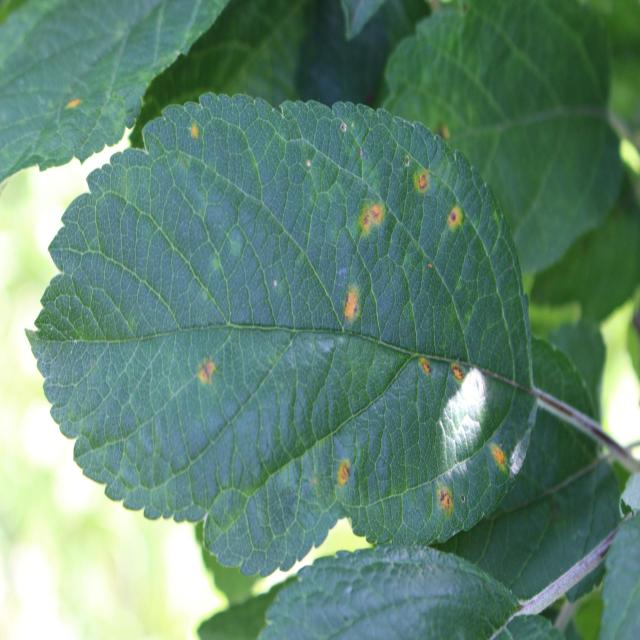rust: (21, 91, 538, 582)
